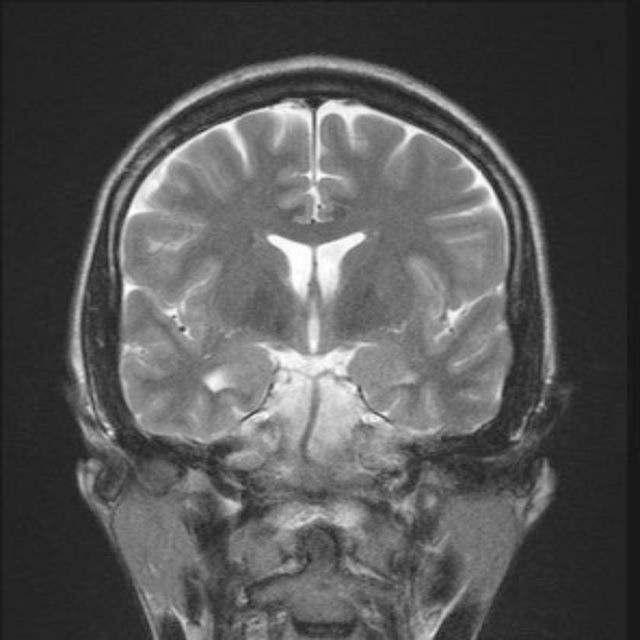glioma tumor: (132, 130, 493, 462)
